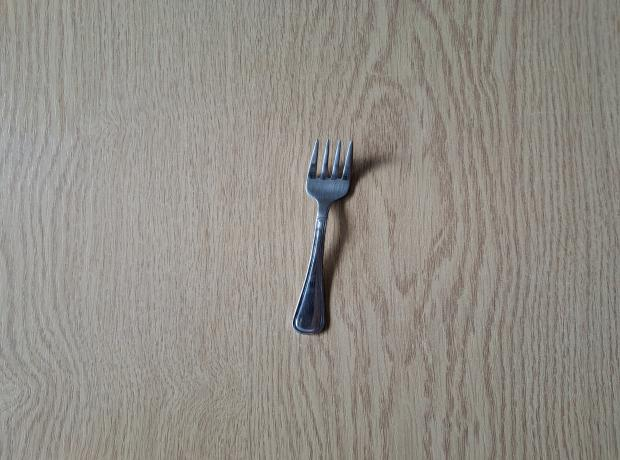metal: (295, 124, 356, 332)
